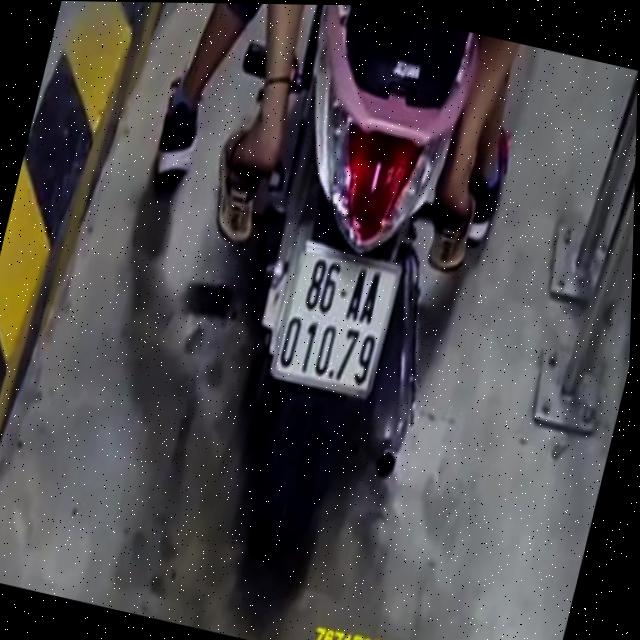motorcycle: (150, 2, 522, 621)
plate: (261, 228, 407, 405)
